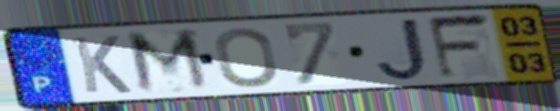7: (281, 20, 339, 89)
F: (424, 11, 496, 83)
J: (373, 16, 432, 84)
K: (69, 34, 135, 95)
M: (122, 26, 217, 97)
O: (212, 25, 281, 90)
